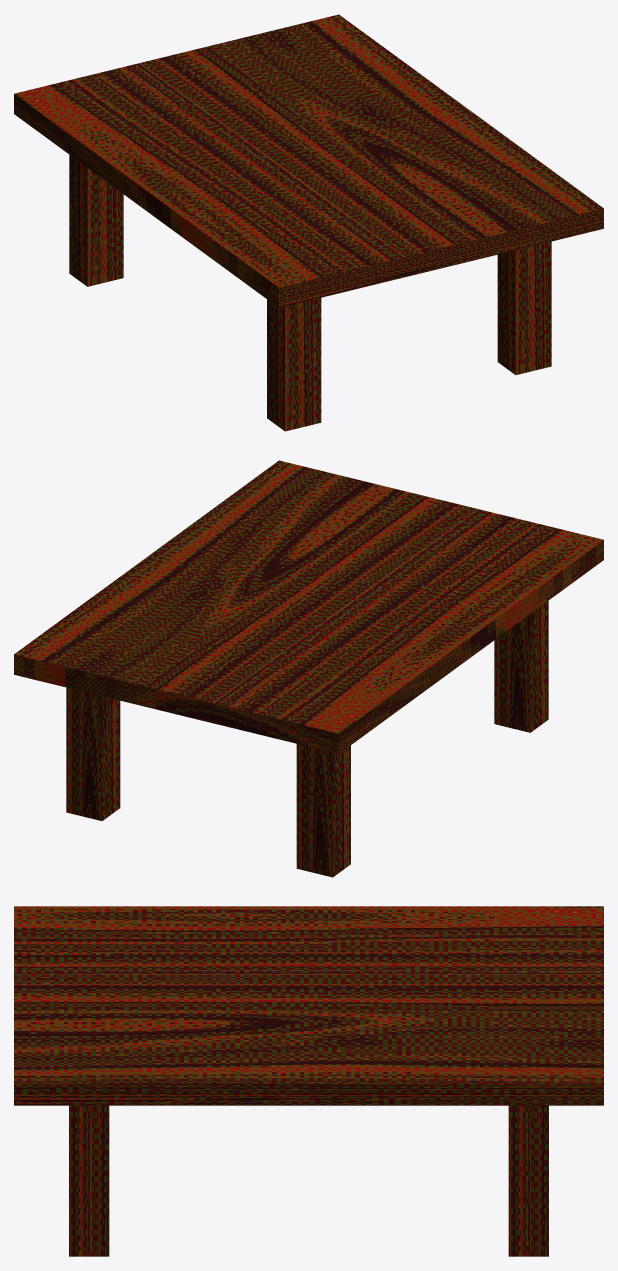
File: table.glb
3 renders of one model, top to bottom at view 1: azimuth 30°, elevation 25°; view 2: azimuth 150°, elevation 25°; view 3: azimuth 270°, elevation 25°, orthographic. The views are drawn at different scales.
Visible parts, largest first — view 1: Cube.004, Cube, Cube.002, Cube.001; view 2: Cube.004, Cube.001, Cube.003, Cube; view 3: Cube.004, Cube.002, Cube.003.
Boxes of the visible parts, x1,y1,x2,y2 form: Cube.004: [14, 14, 603, 307]; Cube: [267, 298, 321, 431]; Cube.002: [497, 241, 551, 374]; Cube.001: [69, 155, 123, 286]; Cube.004: [14, 460, 603, 753]; Cube.001: [296, 744, 350, 877]; Cube.003: [66, 687, 120, 820]; Cube: [494, 601, 548, 732]; Cube.004: [14, 906, 603, 1105]; Cube.002: [69, 1105, 109, 1256]; Cube.003: [508, 1105, 548, 1256].
Bounding box in the file's own units: 4.43 × 2.21 × 6.26.
Materials: 2 (2 with a texture image).
